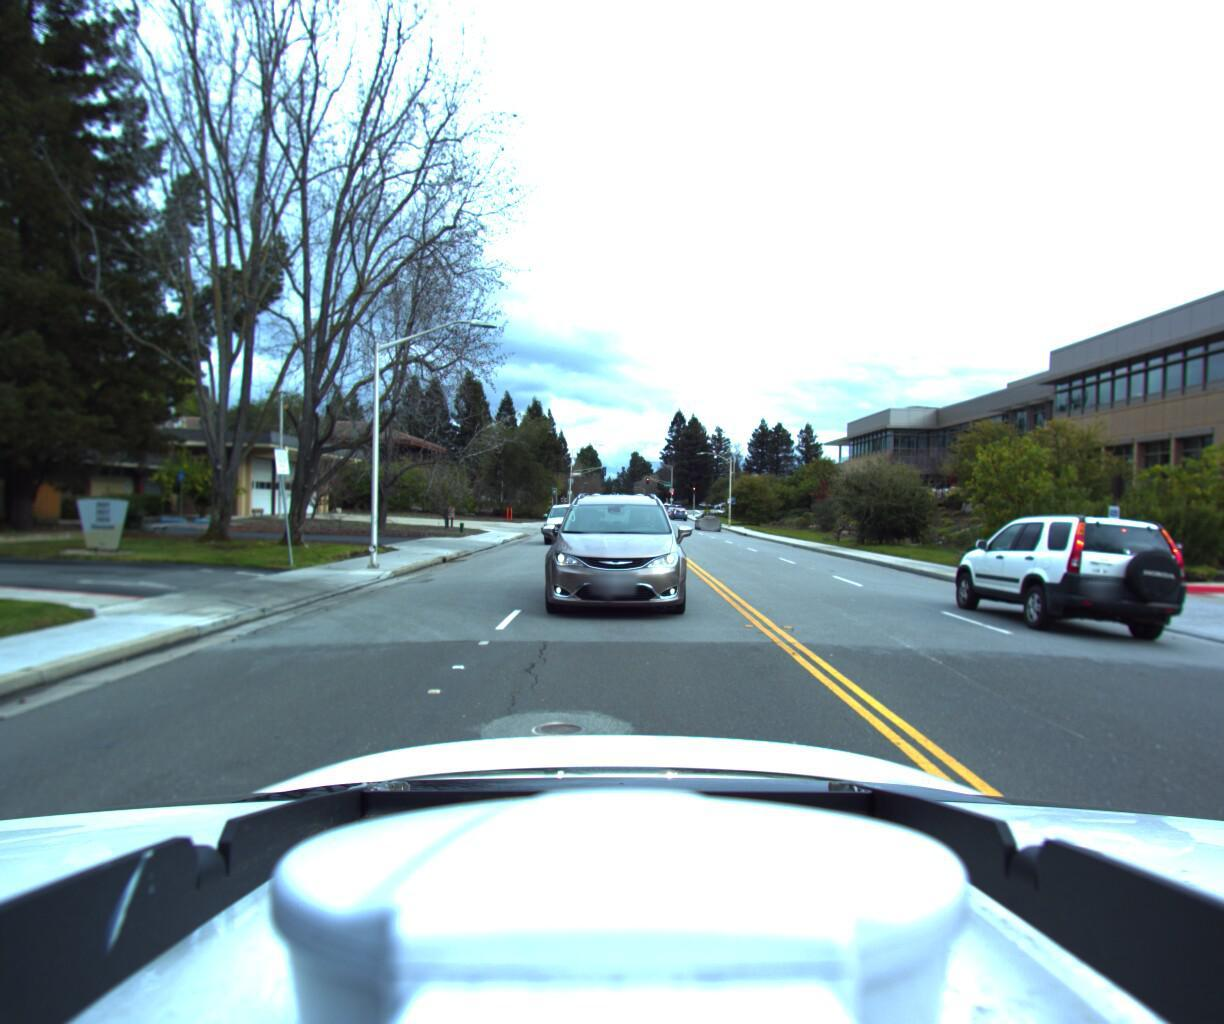car: (918, 510, 1163, 637), (517, 474, 700, 627), (536, 502, 588, 545), (694, 514, 720, 532)
